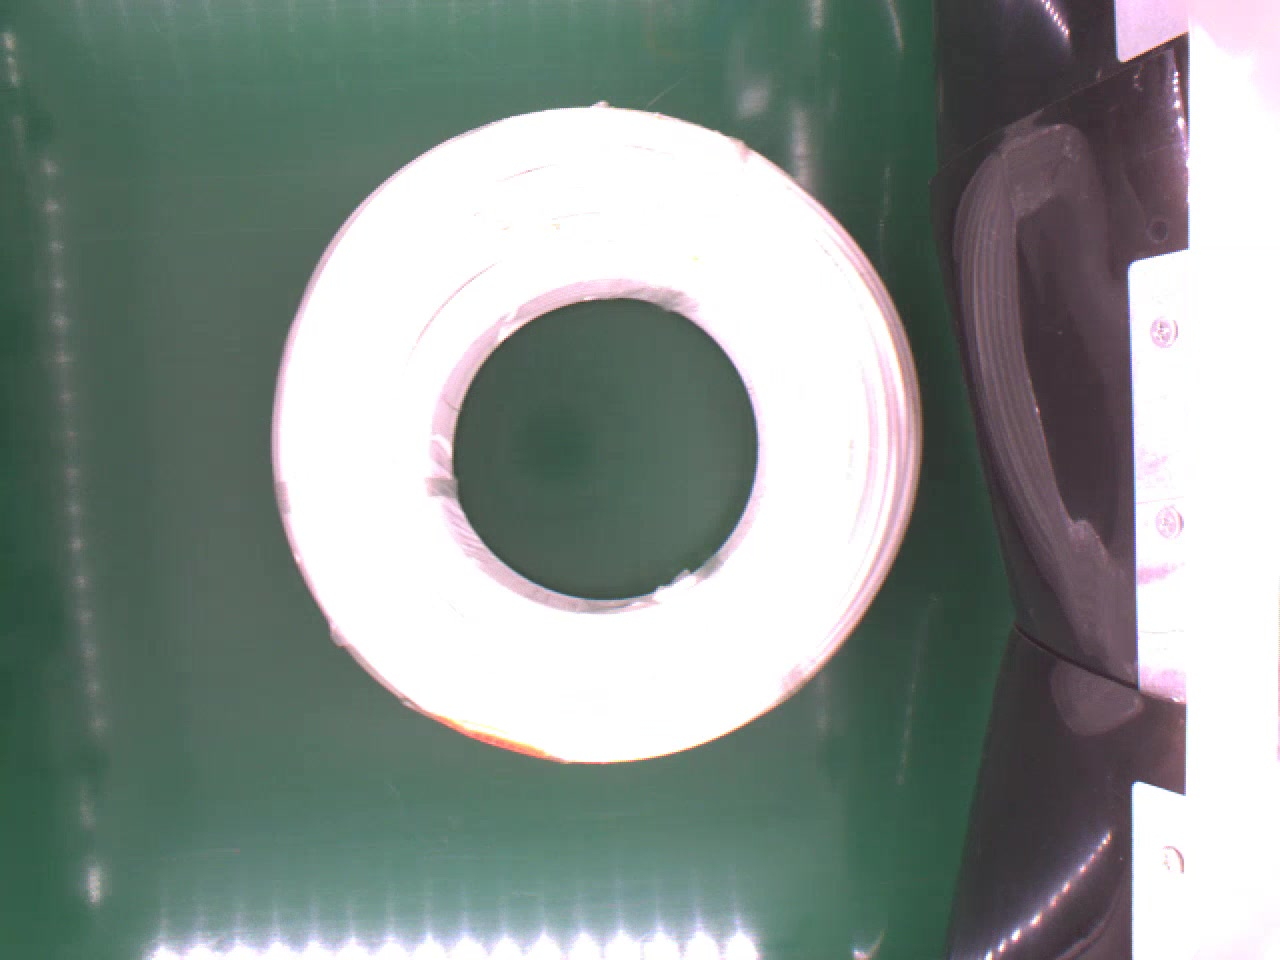white: (267, 91, 933, 776)
